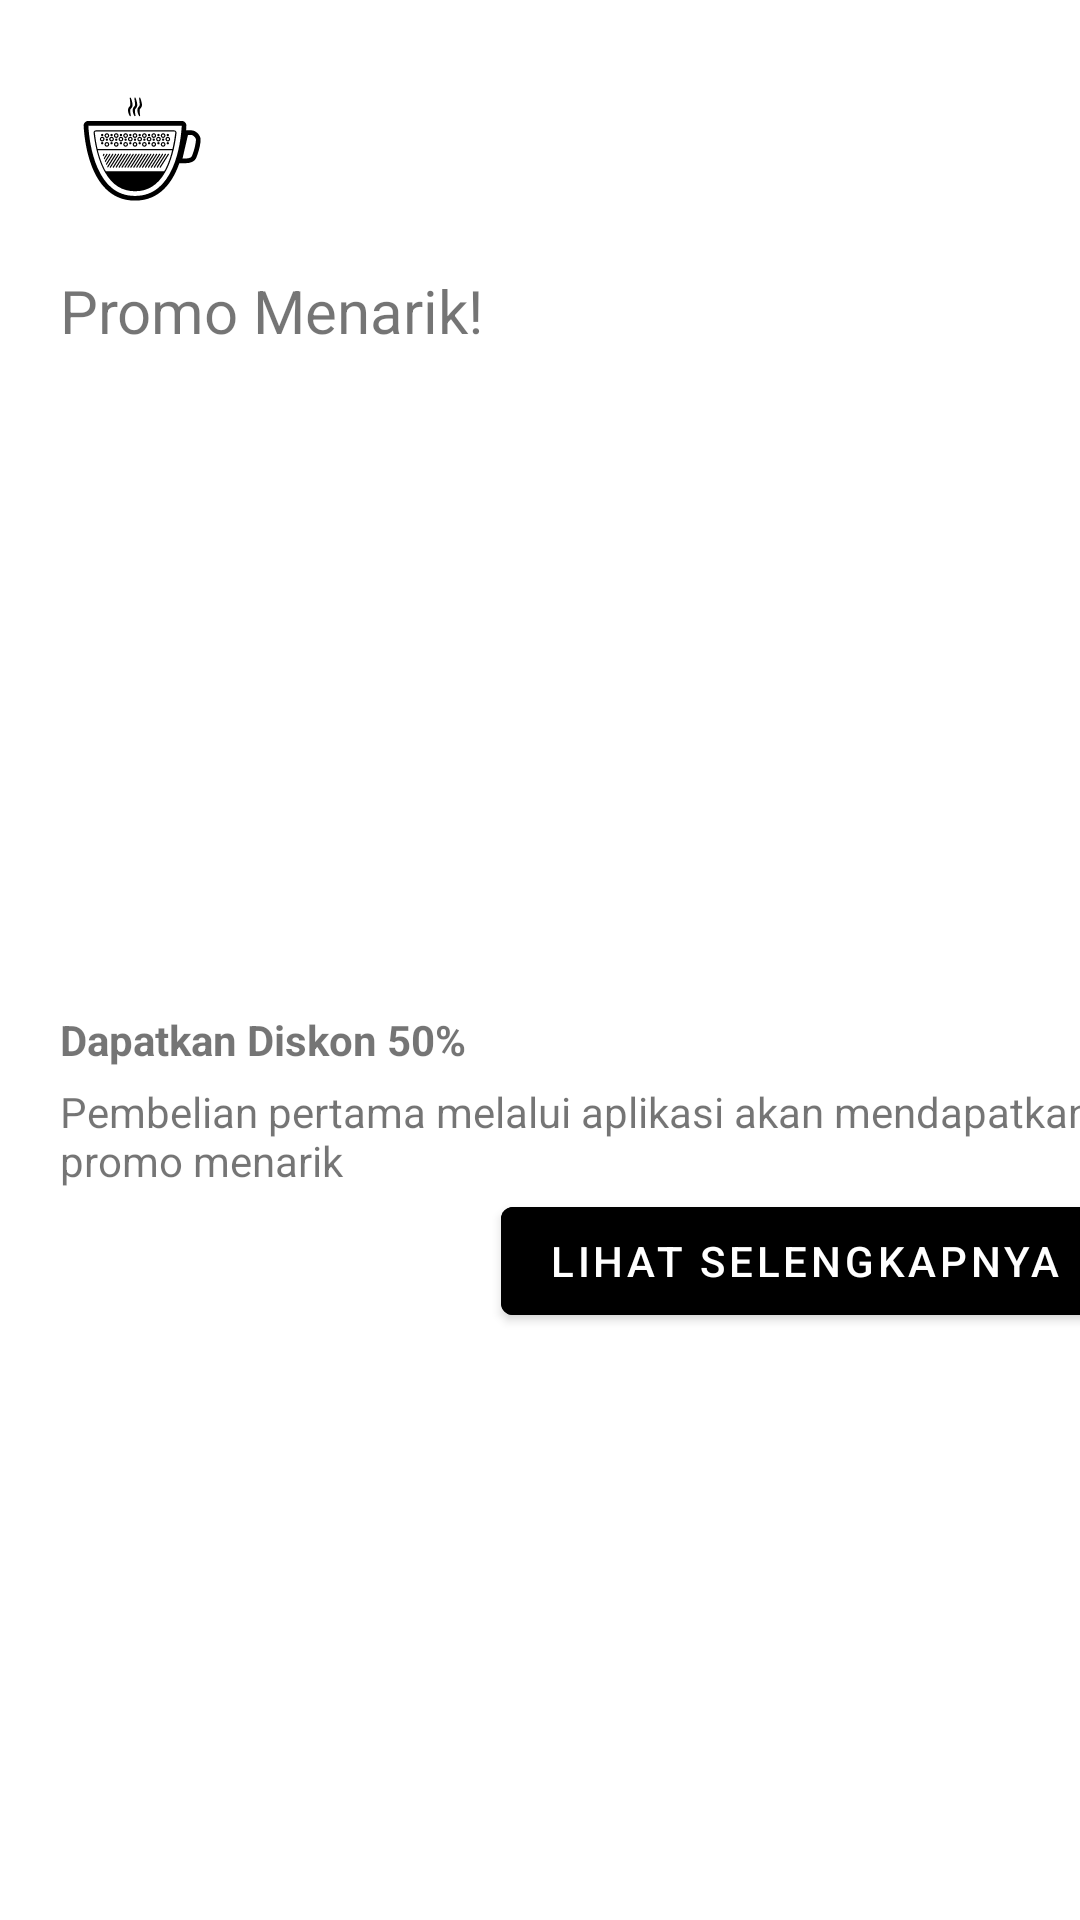

Point at icon controls on the screen. Image size 1080x1920, points as (x=x, y=y).
coffe app: (x=142, y=149)
